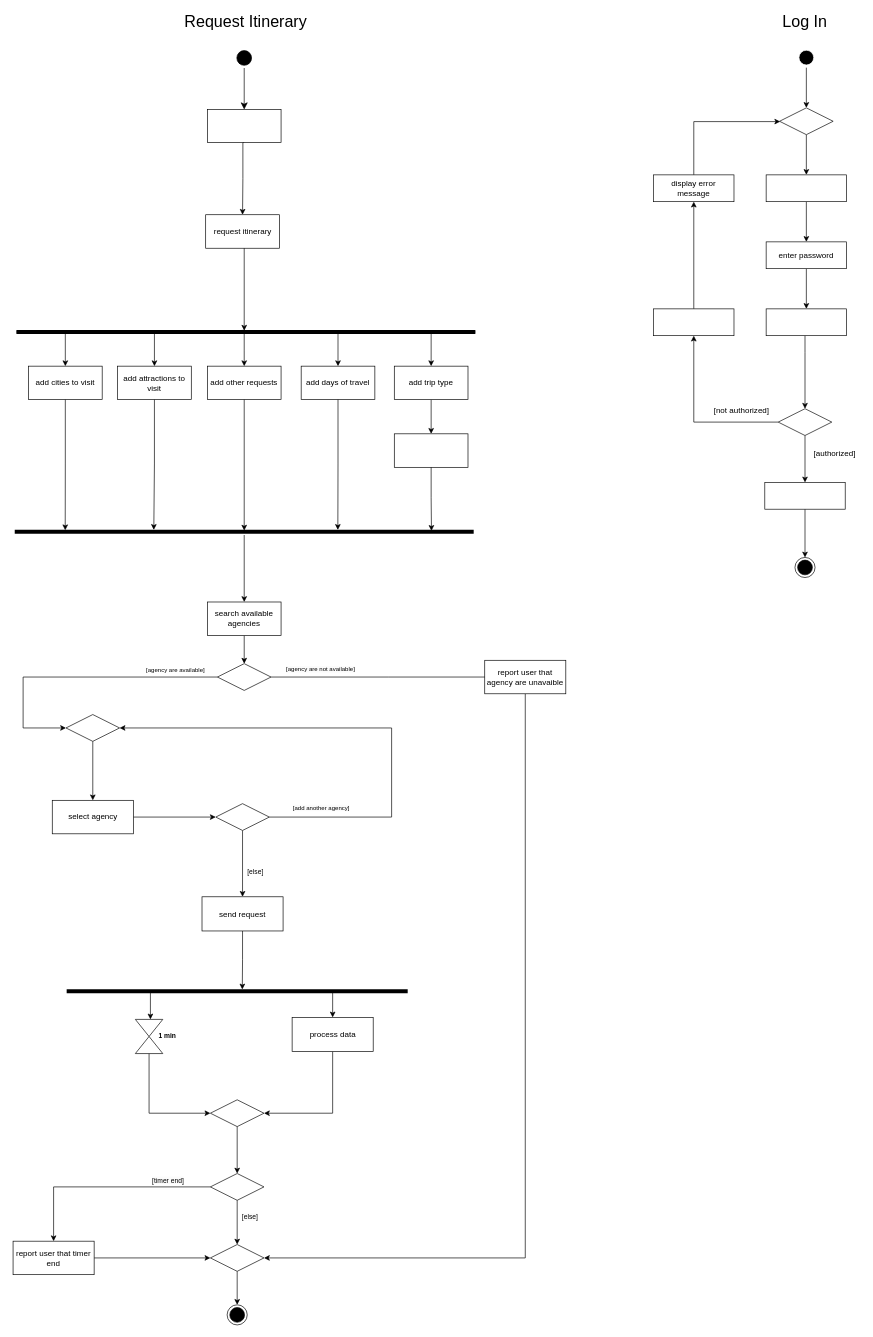
Image size: 873x1337. Some labels were removed from this diagram. The centre of each missing label's shape, as x and y in pixels:
*Log in: the point at 244,125
enter username: the point at 806,188
reject log in: the point at 693,322
select trip type details: the point at 431,450
set session: the point at 804,495
verify data: the point at 806,322
